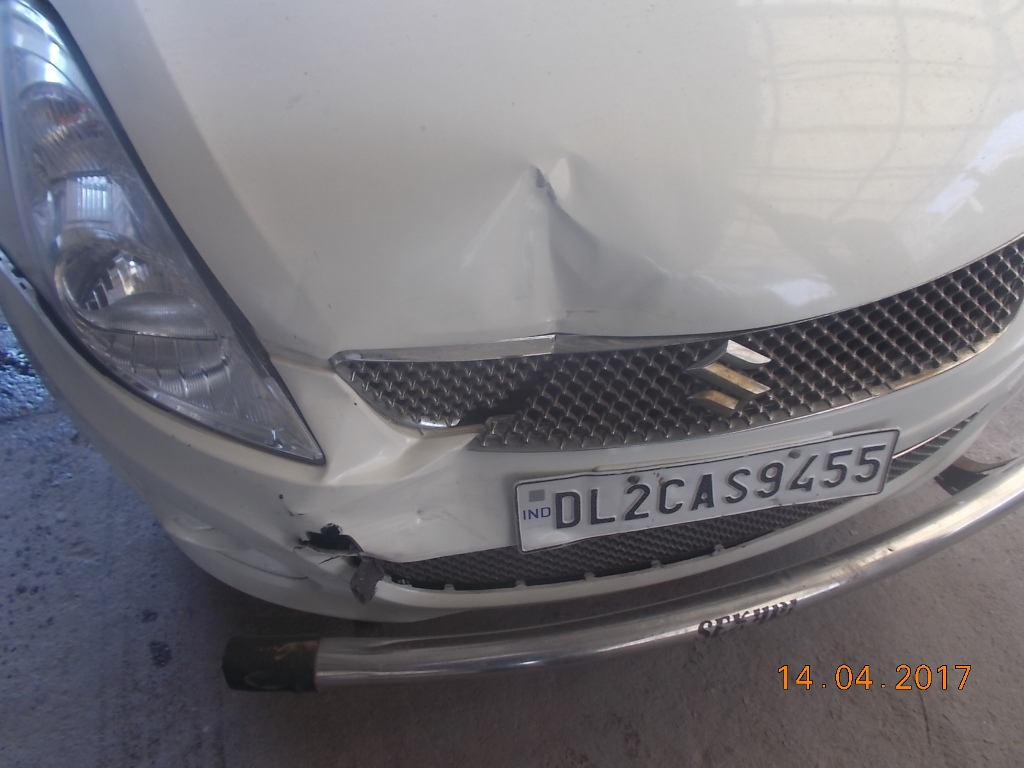Dent: (451, 154, 650, 336)
Tear: (297, 512, 376, 565)
